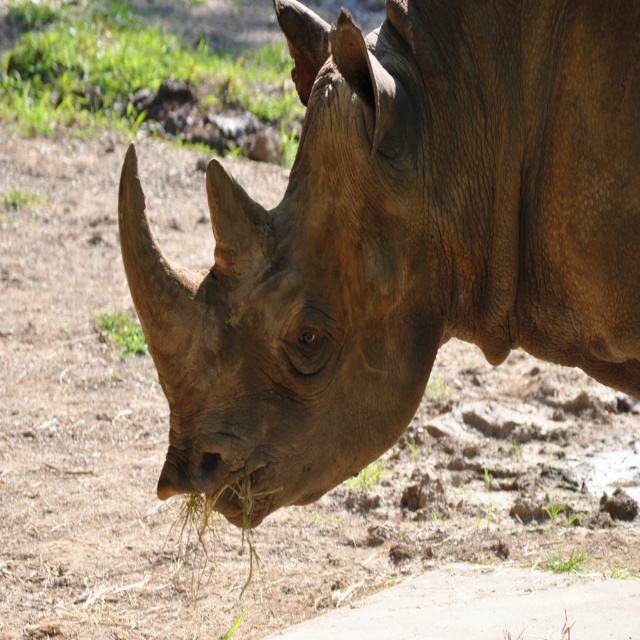Rhinoceros: (111, 0, 640, 530)
